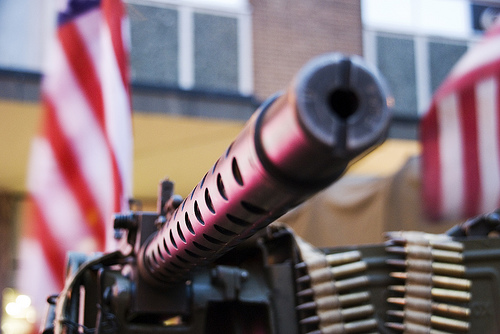rifle: (65, 45, 400, 315)
